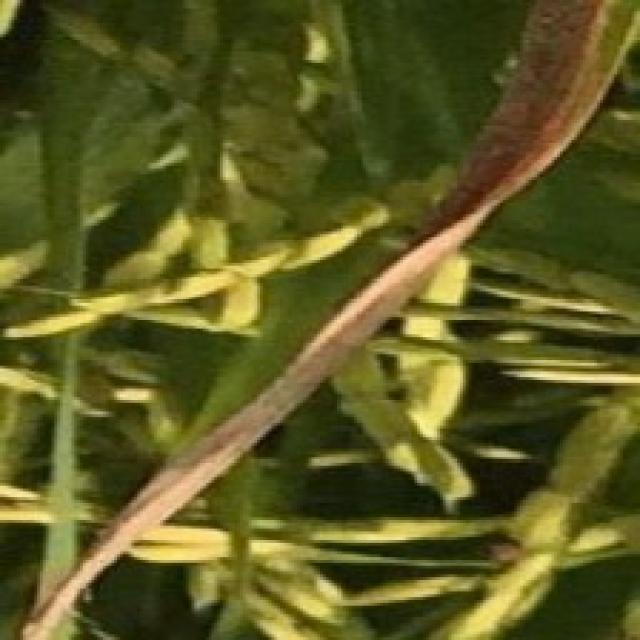Unhealthy: (21, 0, 619, 640)
